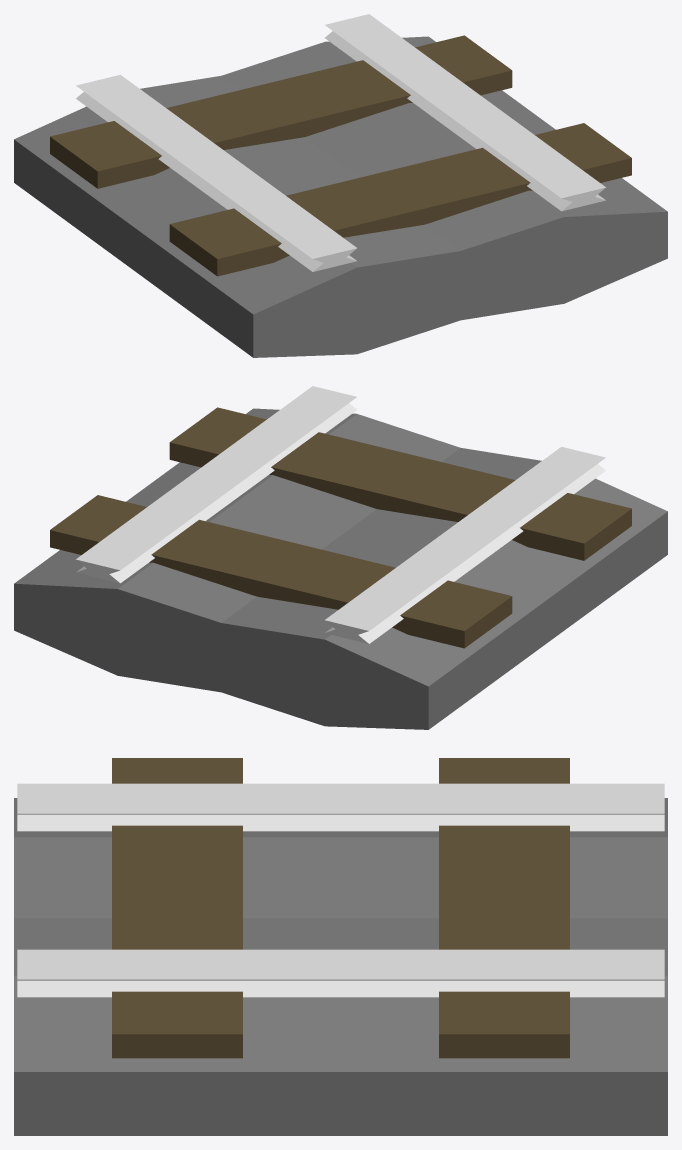
The model's file is Tracks.fbx.
The picture shows the model from 3 angles, top to bottom: view 1: azimuth 30°, elevation 25°; view 2: azimuth 150°, elevation 25°; view 3: azimuth 270°, elevation 25°; orthographic projection. The views are drawn at different scales.
Parts seen in each view (by area): view 1: Tracks; view 2: Tracks; view 3: Tracks.
Boxes of the visible parts, <box> form: Tracks: <box>14,14,667,357</box>; Tracks: <box>14,386,667,729</box>; Tracks: <box>14,758,667,1135</box>.
Size of the model in its own units: 200 by 48.37 by 200.
